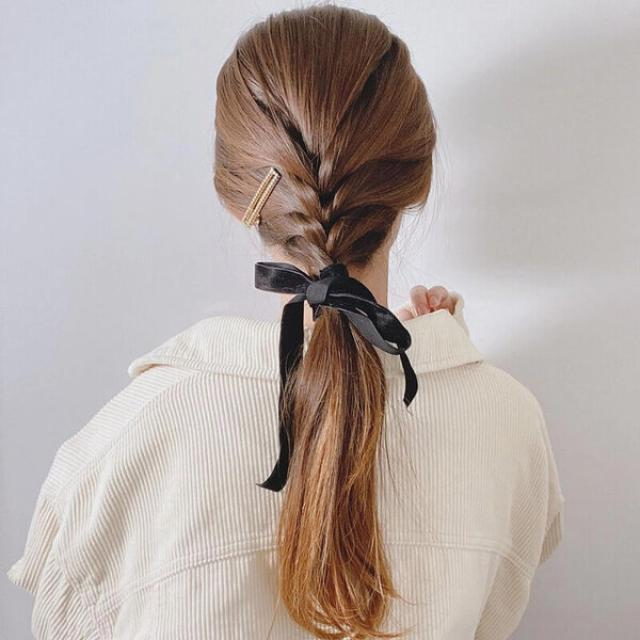Nonhelmet: (210, 3, 437, 269)
